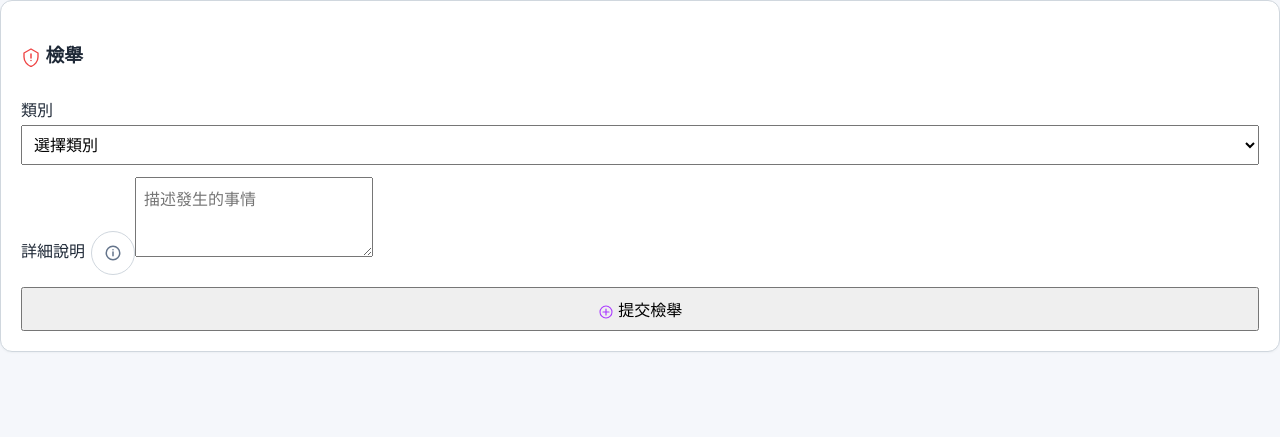
it: ReportForm › shows success on submit
The width and height of the screenshot is (1280, 437).
Select "垃圾訊息" in the dropdown labelled "類別": (640, 145) [21,125,1259,165]
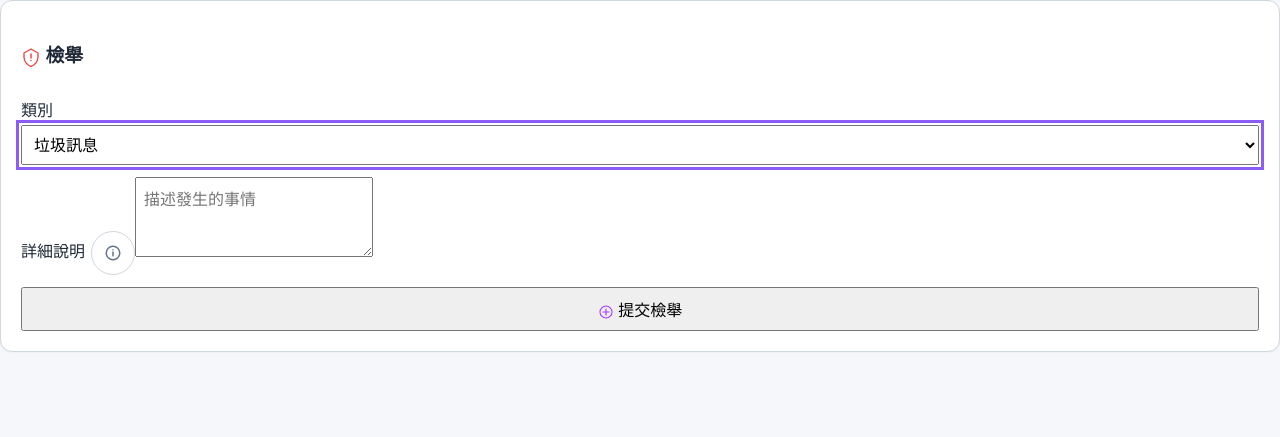
In the text box named "詳細說明": (254, 217) [135,177,373,257], type "Spam account details"
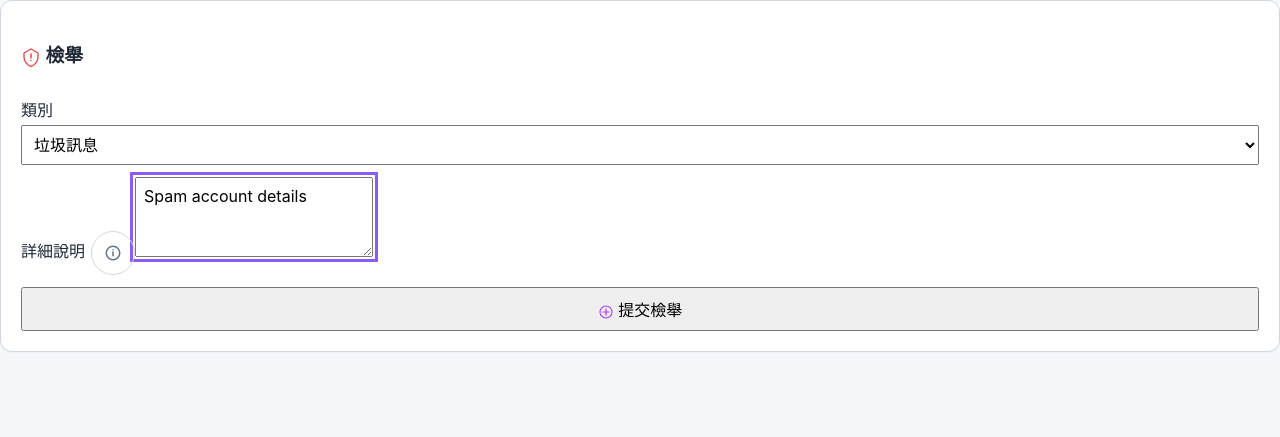
Click the button "提交檢舉": (640, 309) [21,287,1259,331]
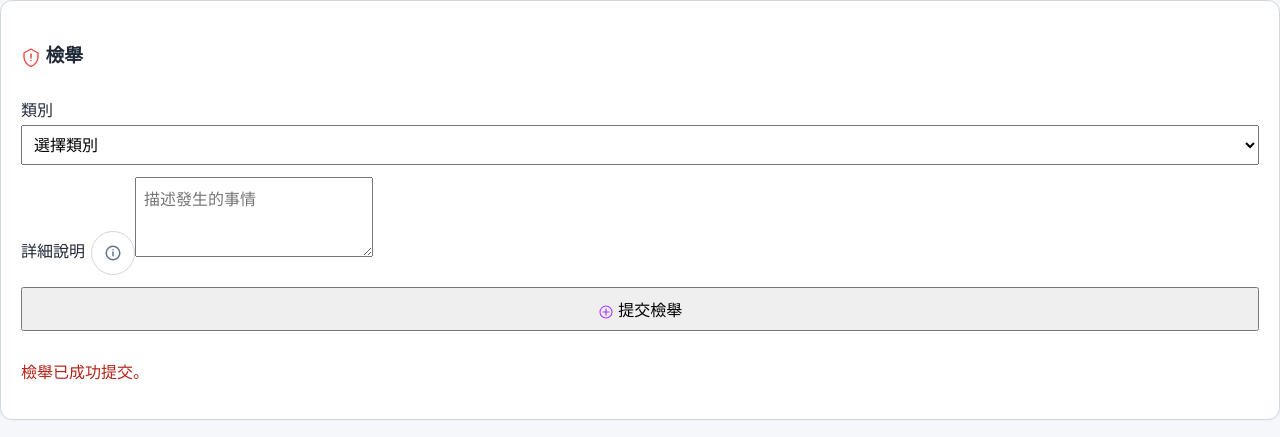
Check: the text "檢舉已成功提交。" is shown, box [21,362,149,382]
